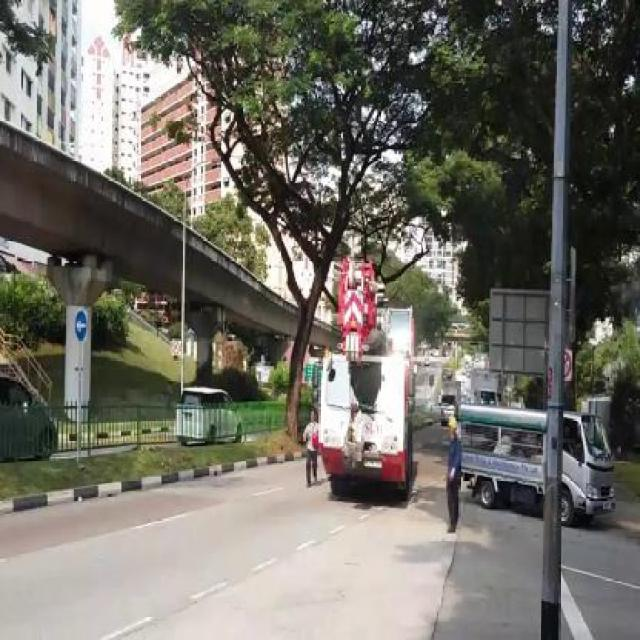Mobile Crane: (319, 262, 415, 500)
